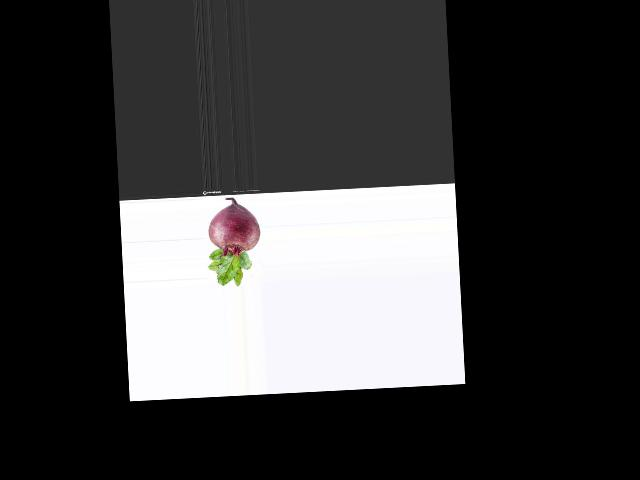beet: (205, 196, 263, 287)
